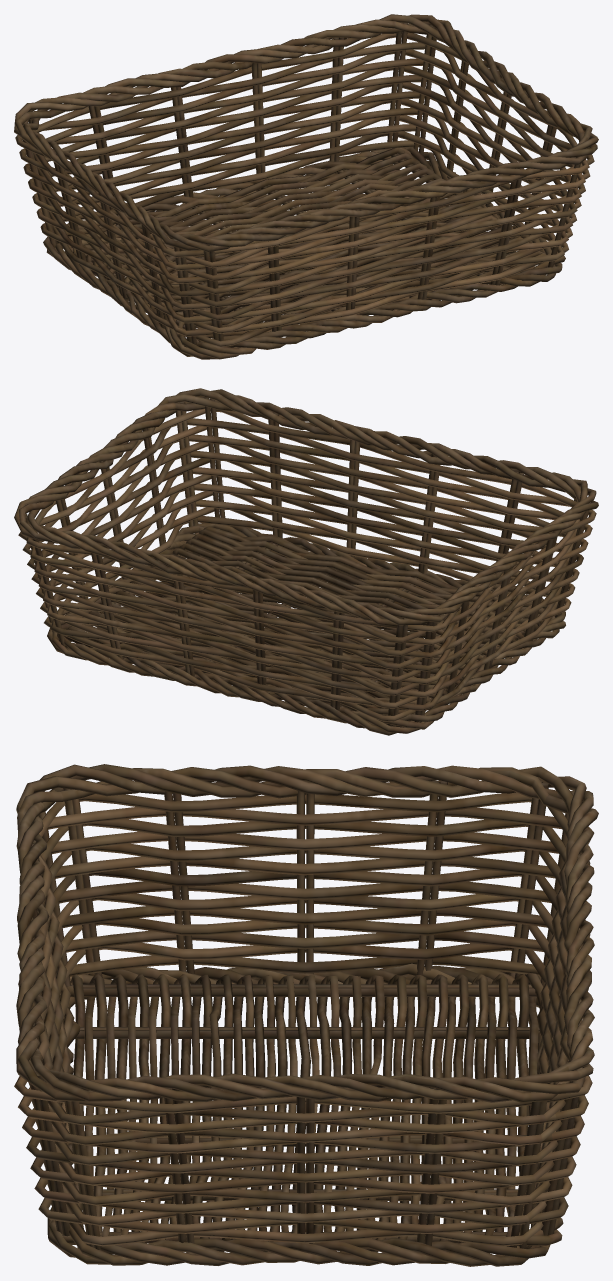
The model's file is wicker_basket_01.glb.
3 views of the same model, one above another, from view 1: azimuth 30°, elevation 25°; view 2: azimuth 150°, elevation 25°; view 3: azimuth 270°, elevation 25° (orthographic). The views are drawn at different scales.
Parts seen in each view (by area): view 1: wicker_basket_01; view 2: wicker_basket_01; view 3: wicker_basket_01.
Part boxes in pixels (bbox=[...]): wicker_basket_01: bbox=[14, 14, 598, 359]; wicker_basket_01: bbox=[14, 388, 598, 735]; wicker_basket_01: bbox=[14, 764, 598, 1266].
Size of the model in its own units: 0.3832 by 0.1174 by 0.295.
1 material, 1 textured.
